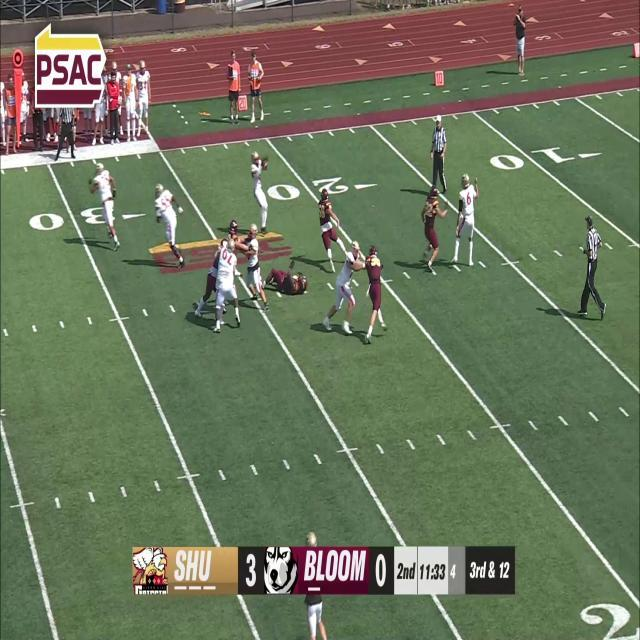football: (260, 158, 269, 172)
